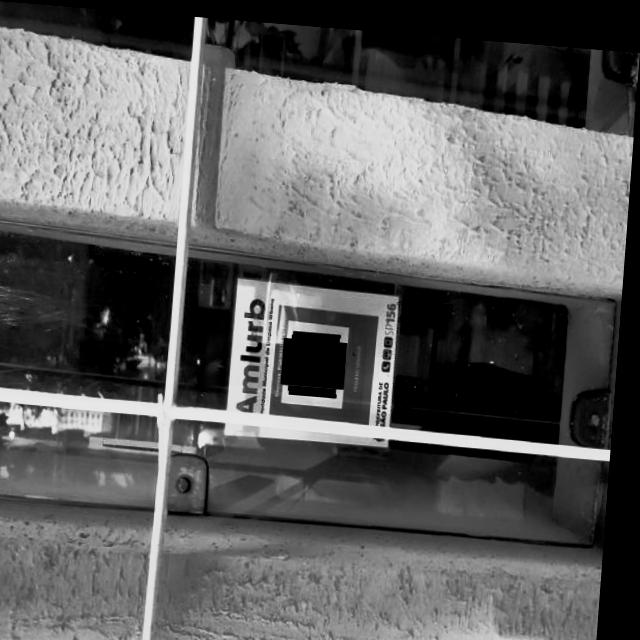qr_code: (290, 328, 350, 388)
